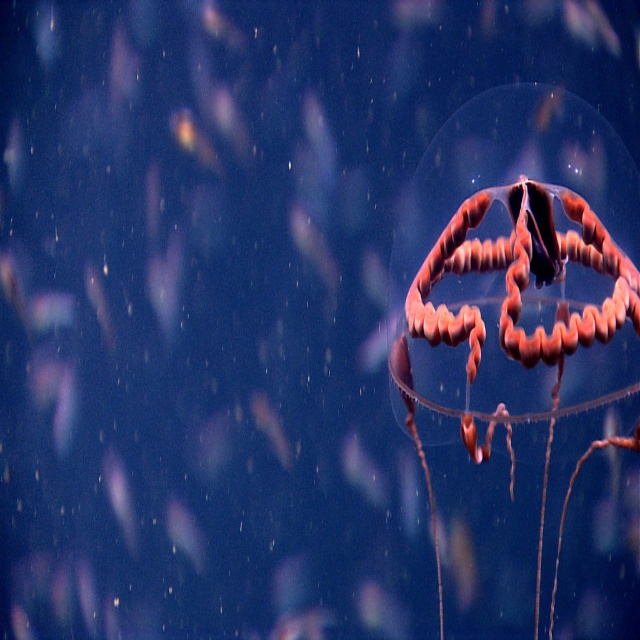Jellyfish: (383, 75, 639, 639)
